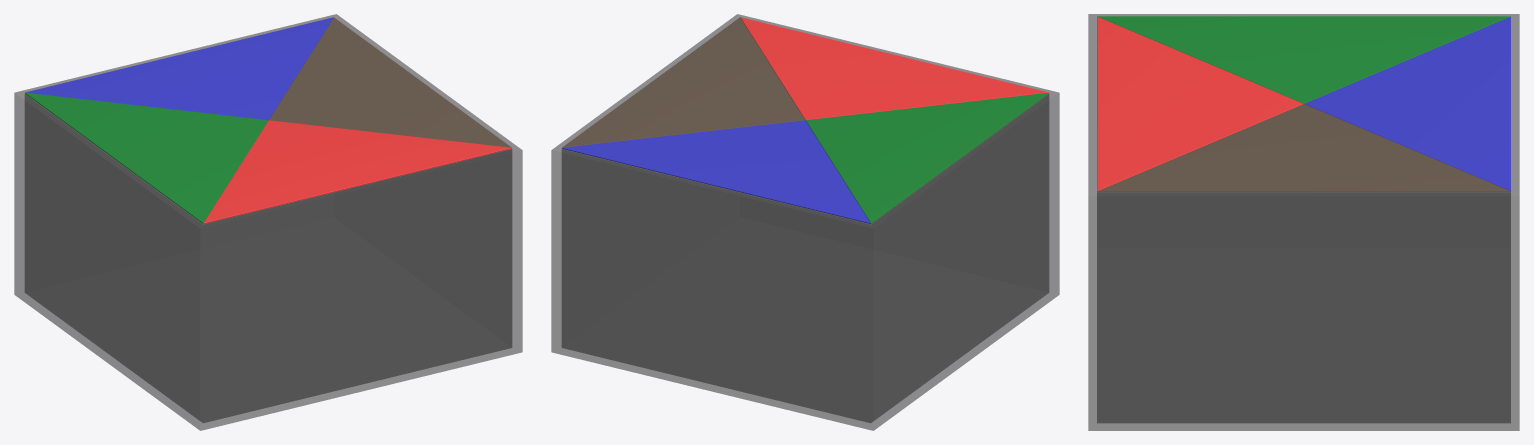
Rendered from Nashat2.glb.
3 views of the same model, side by side, from view 1: azimuth 30°, elevation 25°; view 2: azimuth 150°, elevation 25°; view 3: azimuth 270°, elevation 25° (orthographic). The views are drawn at different scales.
Parts seen in each view (by area): view 1: Box002, Shape001, Object003, Object002, Object001; view 2: Box002, Object002, Object003, Shape001, Object001; view 3: Box002, Object001, Object003, Shape001, Object002.
Boxes of the visible parts, x1=… form: Box002: x1=14, y1=14, x2=522, y2=430; Shape001: x1=203, y1=120, x2=511, y2=223; Object003: x1=25, y1=92, x2=268, y2=223; Object002: x1=25, y1=17, x2=333, y2=120; Object001: x1=269, y1=17, x2=511, y2=147; Box002: x1=551, y1=14, x2=1059, y2=430; Object002: x1=562, y1=120, x2=870, y2=223; Object003: x1=805, y1=92, x2=1048, y2=223; Shape001: x1=740, y1=17, x2=1048, y2=120; Object001: x1=562, y1=17, x2=804, y2=147; Box002: x1=1088, y1=14, x2=1519, y2=430; Object001: x1=1097, y1=104, x2=1510, y2=192; Object003: x1=1097, y1=16, x2=1510, y2=103; Shape001: x1=1097, y1=16, x2=1303, y2=191; Object002: x1=1304, y1=16, x2=1510, y2=191.
Bounding box in the file's own units: 0.5 × 0.302 × 0.5.
